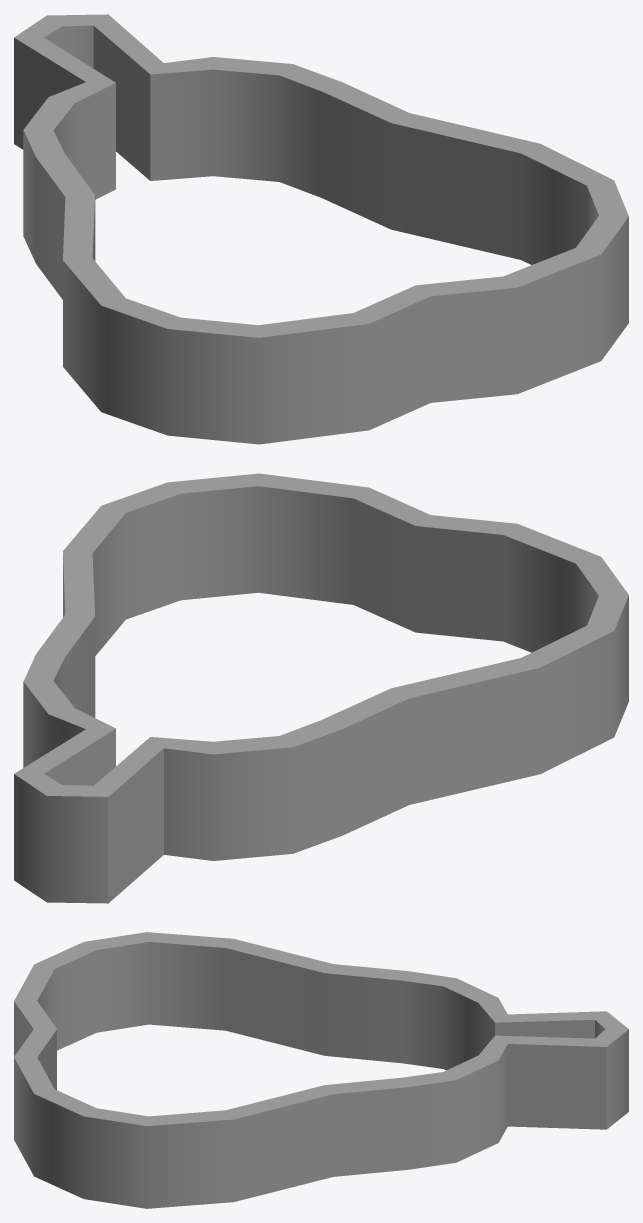
The model's file is BiscuitCutter_Pear_01.fbx.
The picture shows the model from 3 angles, top to bottom: view 1: azimuth 30°, elevation 25°; view 2: azimuth 150°, elevation 25°; view 3: azimuth 270°, elevation 25°; orthographic projection. The views are drawn at different scales.
Visible parts, largest first — view 1: BiscuitCutter_Pear_01; view 2: BiscuitCutter_Pear_01; view 3: BiscuitCutter_Pear_01.
Boxes of the visible parts, x1,y1,x2,y2 form: BiscuitCutter_Pear_01: (14, 14, 628, 444); BiscuitCutter_Pear_01: (14, 473, 628, 903); BiscuitCutter_Pear_01: (14, 932, 628, 1208).
Size of the model in its own units: 0.0643 by 0.0128 by 0.086.
